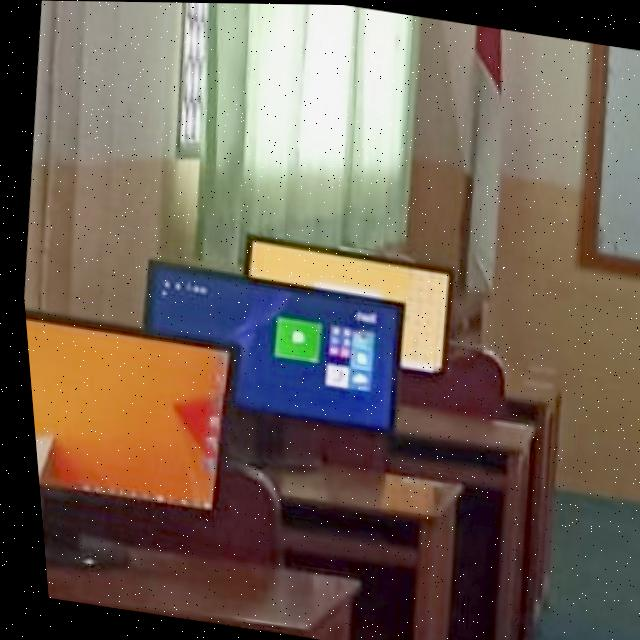onscreen: (140, 260, 399, 427), (20, 318, 223, 508), (244, 236, 444, 372)
